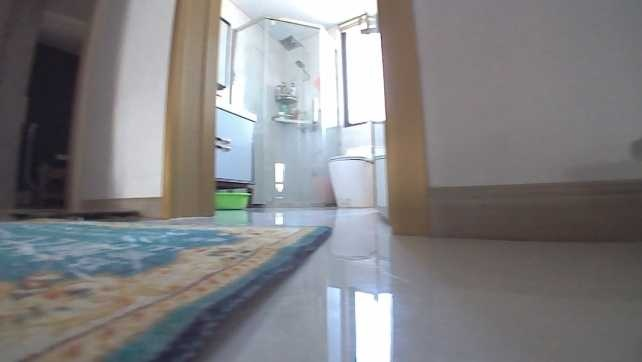blanket: (1, 216, 335, 361)
toilet: (324, 150, 377, 210)
washstand: (210, 98, 262, 193)
